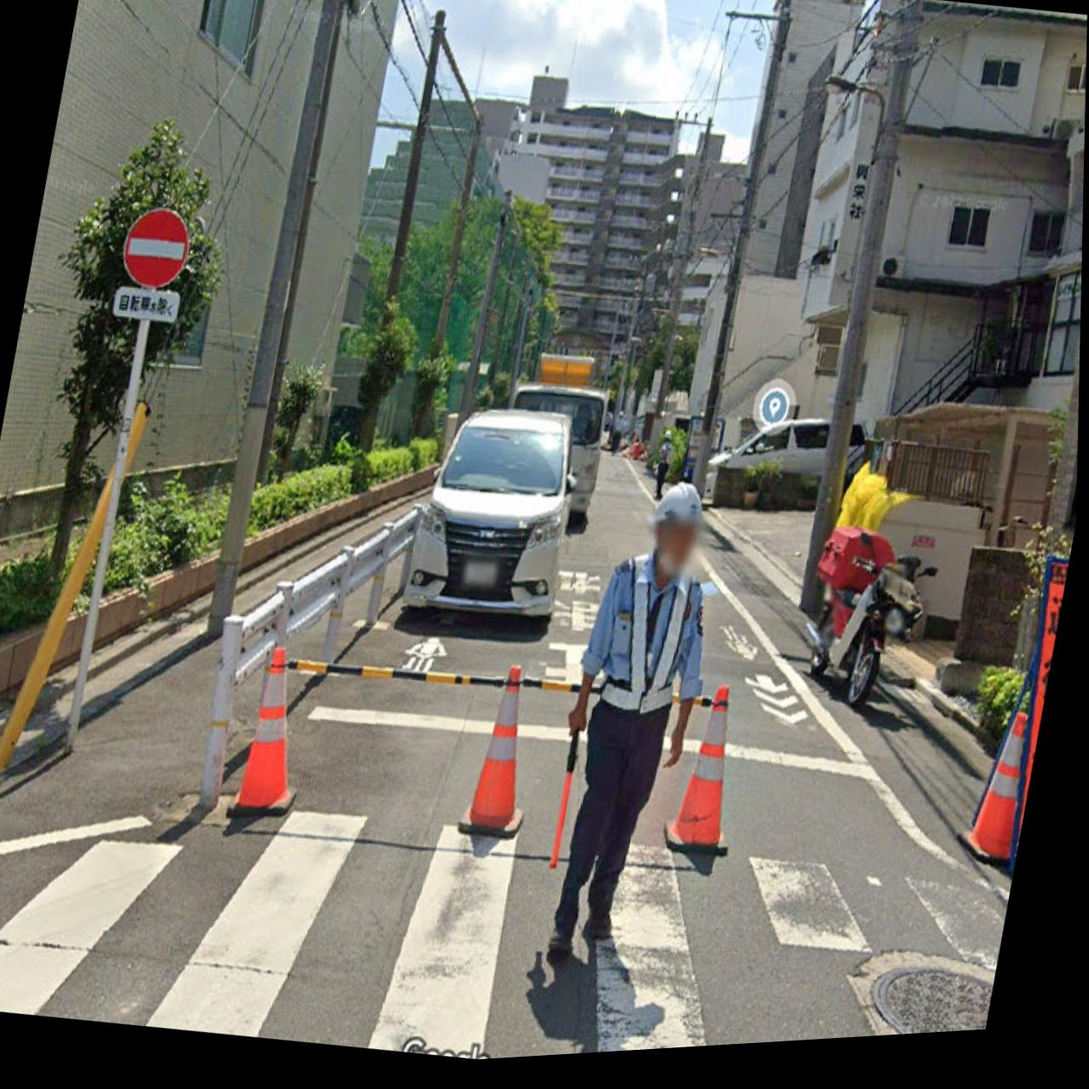barrier: (112, 197, 200, 296)
